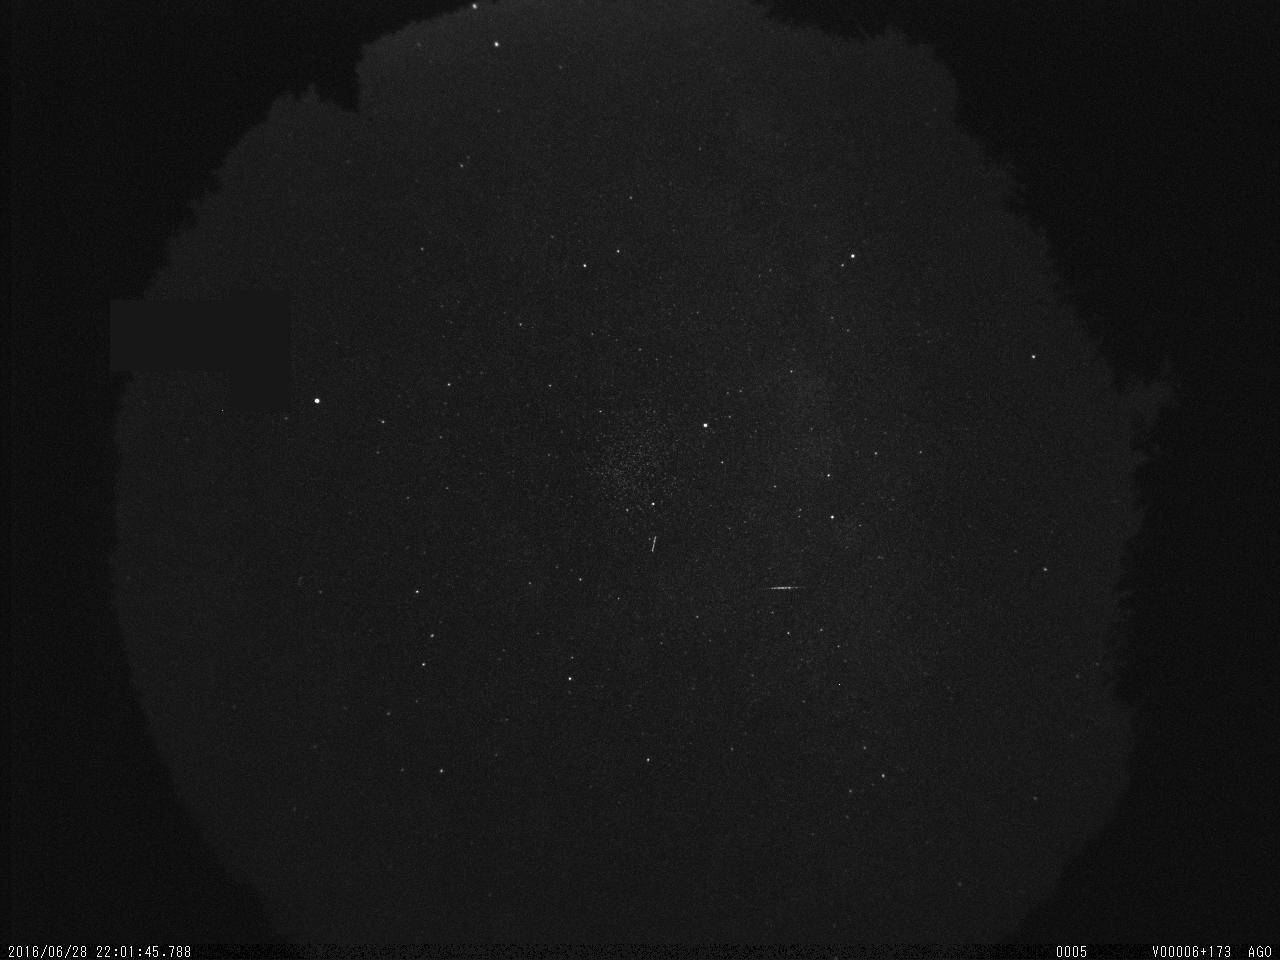meteor: (757, 580, 811, 594)
